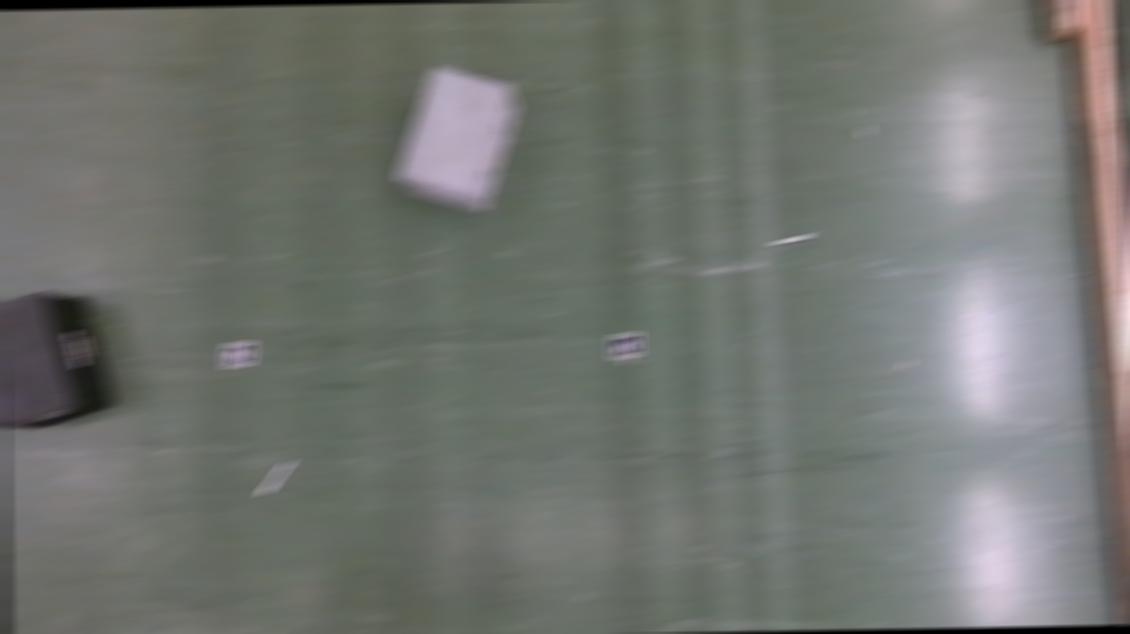probes: (260, 461, 294, 495)
rako: (391, 66, 521, 216), (0, 290, 115, 430)
